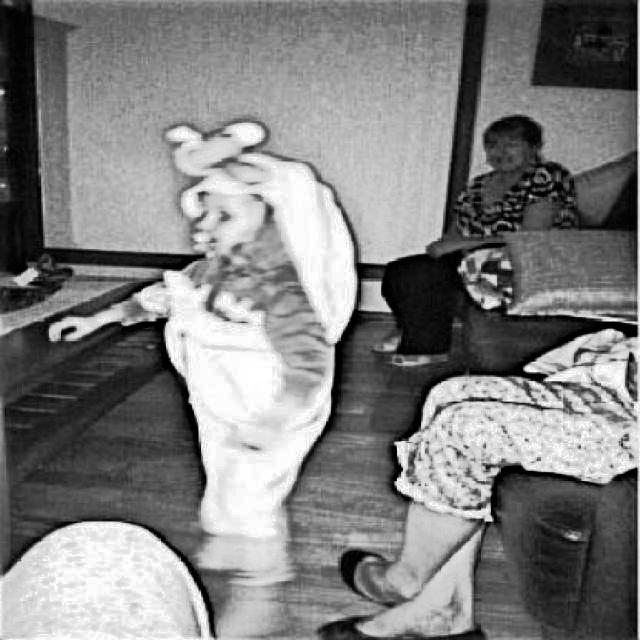Person: (52, 180, 349, 549), (369, 110, 586, 369)
